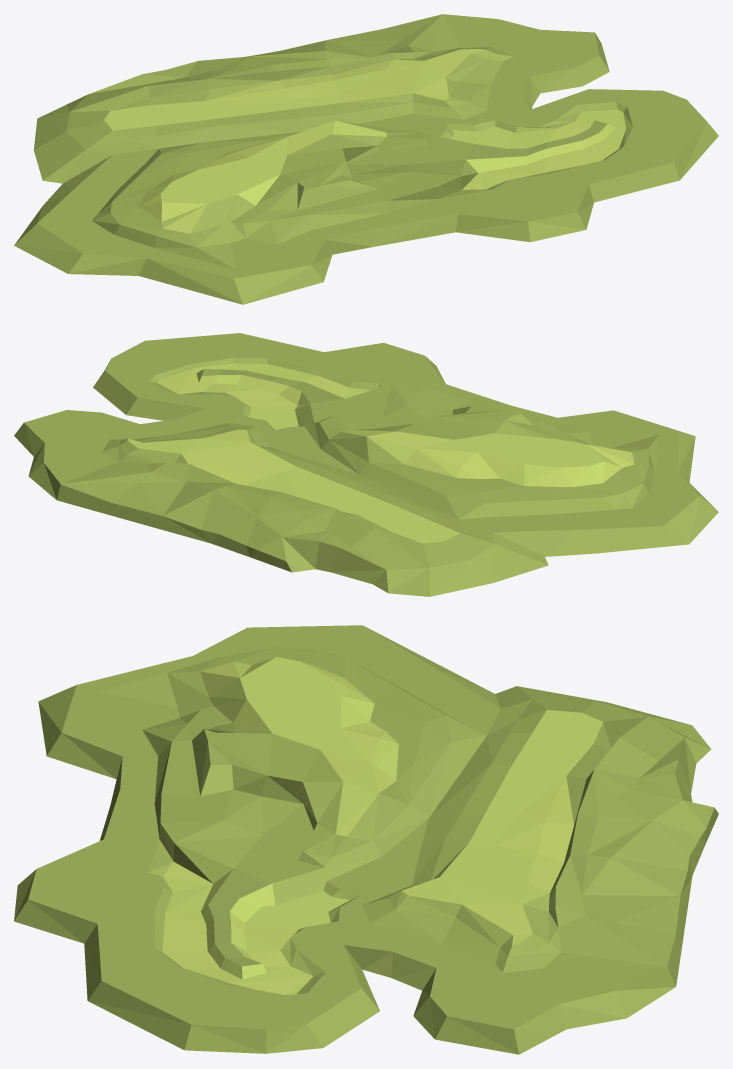
Rendered from EA03_Nature_Bush_Flat_03e.glb.
The picture shows the model from 3 angles, top to bottom: view 1: azimuth 30°, elevation 25°; view 2: azimuth 150°, elevation 25°; view 3: azimuth 270°, elevation 25°; orthographic projection. The views are drawn at different scales.
Visible parts, largest first — view 1: EA03_Nature_Bush_Flat_03e; view 2: EA03_Nature_Bush_Flat_03e; view 3: EA03_Nature_Bush_Flat_03e.
Boxes of the visible parts, x1,y1,x2,y2 form: EA03_Nature_Bush_Flat_03e: [14, 14, 718, 304]; EA03_Nature_Bush_Flat_03e: [14, 333, 718, 596]; EA03_Nature_Bush_Flat_03e: [14, 625, 718, 1054].
Bounding box in the file's own units: 19.58 × 1.12 × 13.67.
1 material, 1 textured.
